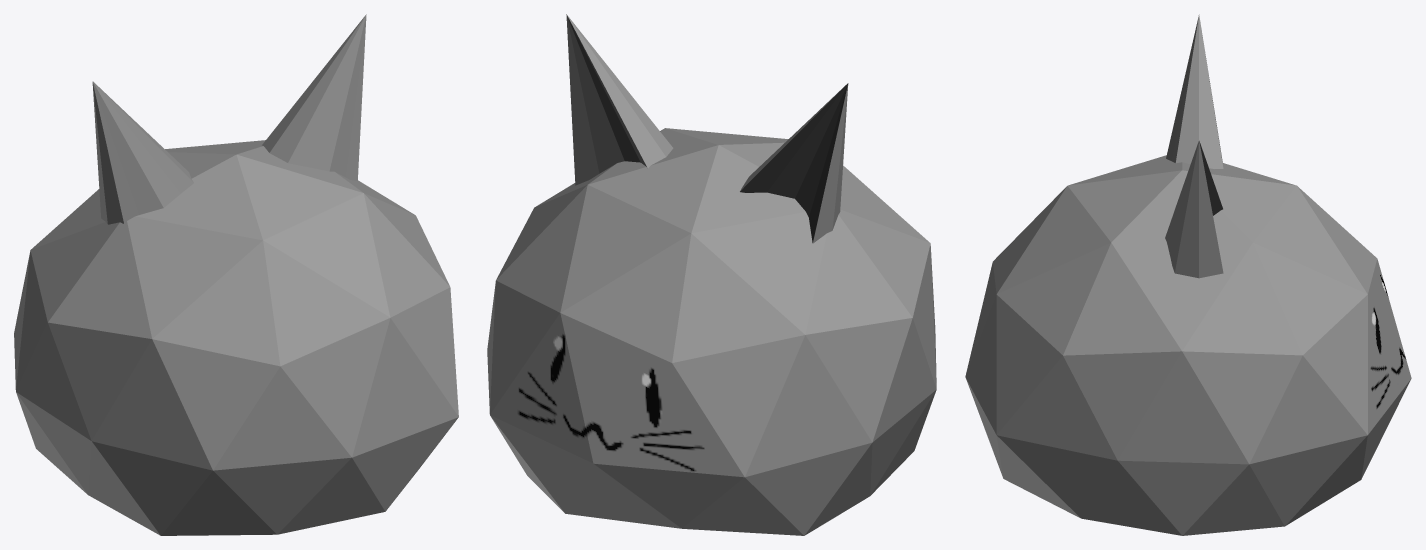
The model's file is Rock.fbx.
3 renders of one model, left to right at view 1: azimuth 30°, elevation 25°; view 2: azimuth 150°, elevation 25°; view 3: azimuth 270°, elevation 25°, orthographic. The views are drawn at different scales.
Visible parts, largest first — view 1: Icosphere; view 2: Icosphere; view 3: Icosphere.
Part boxes in pixels (x1,y1,x2,y2): Icosphere: [14, 14, 458, 535]; Icosphere: [487, 14, 936, 535]; Icosphere: [965, 14, 1411, 535].
Bounding box in the file's own units: 161 × 170 × 175.
